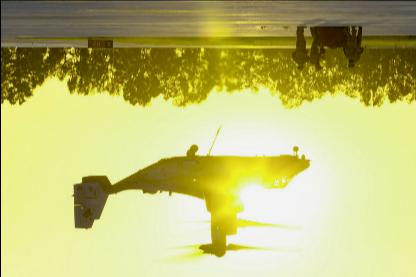Tornado: (70, 143, 312, 263)
